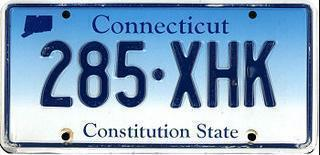placa de veiculo: (8, 3, 314, 154)
